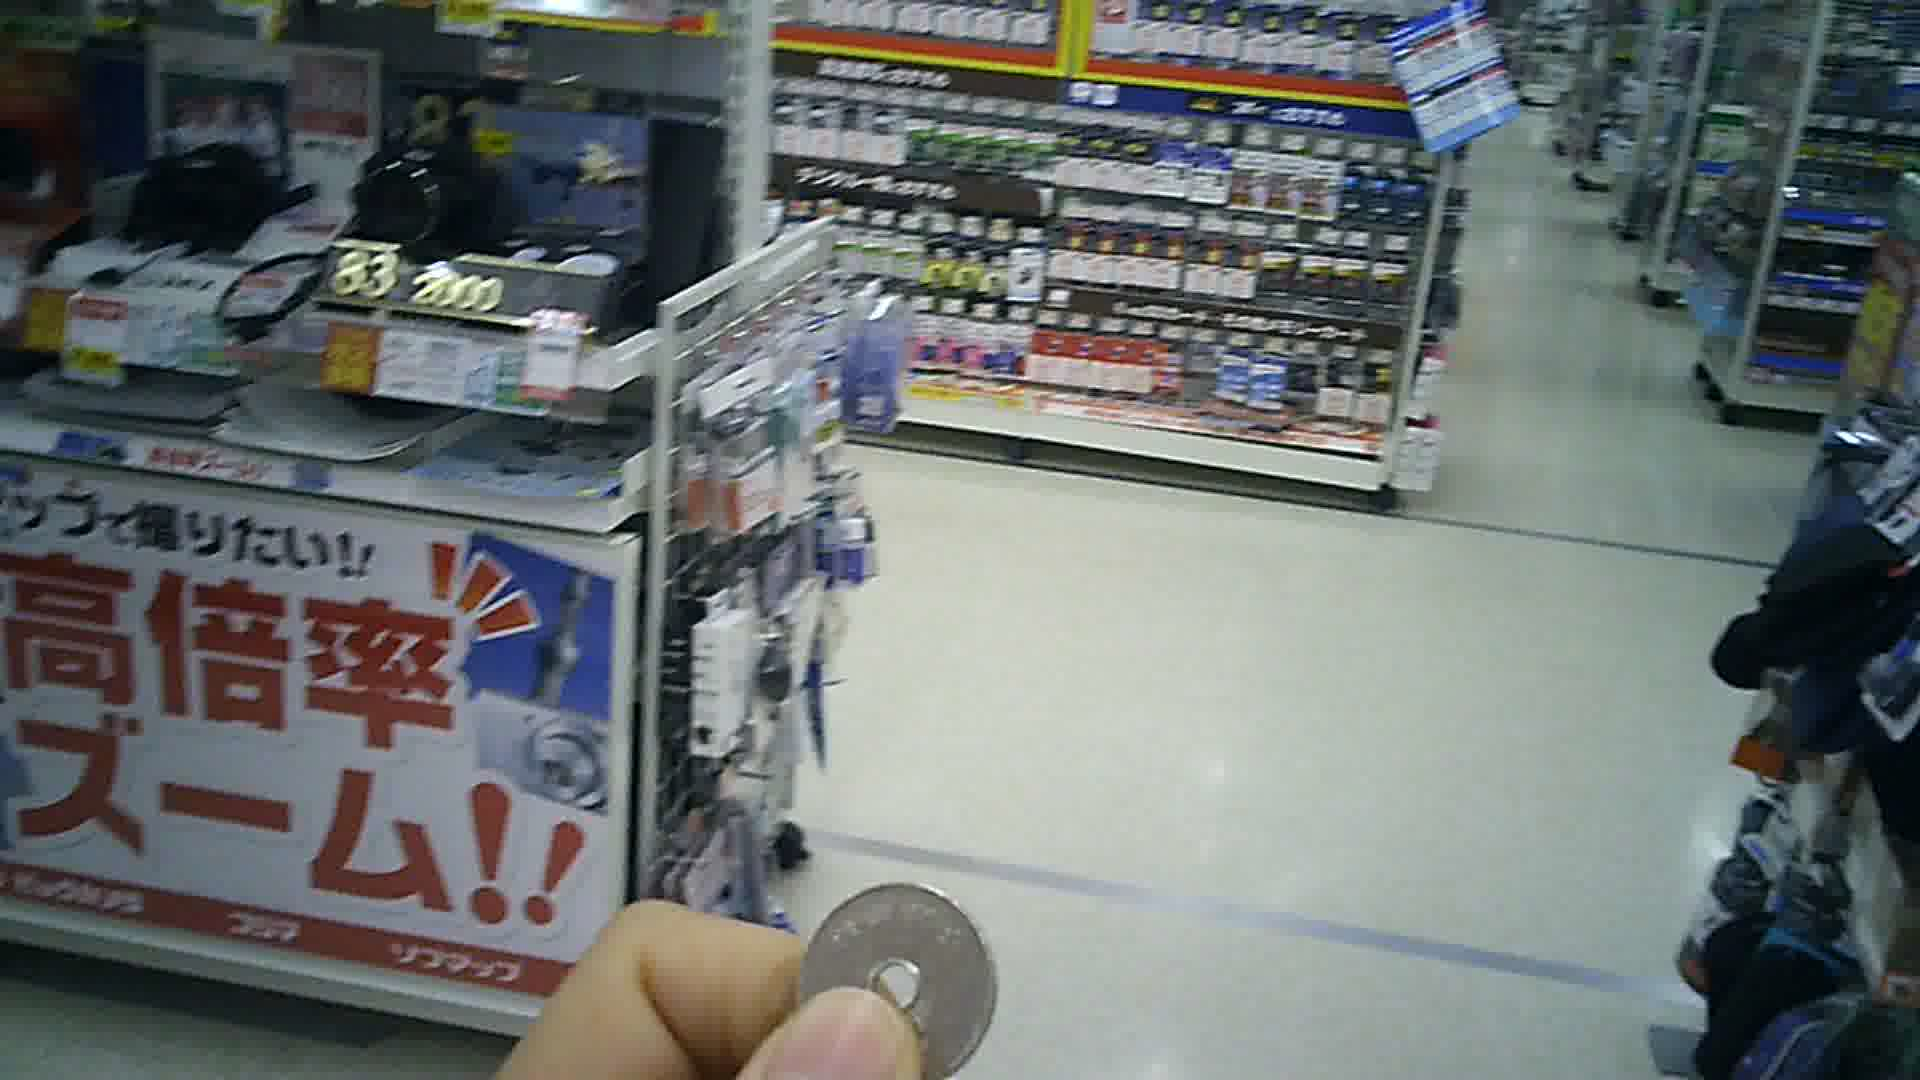50 Yen: (779, 880, 1011, 1079)
